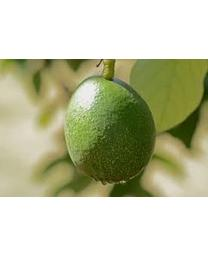avocado: (65, 75, 156, 185)
